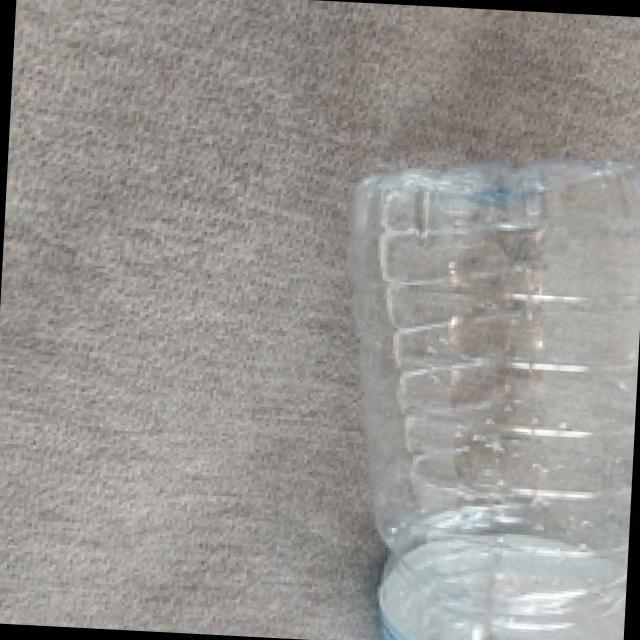good: (332, 145, 640, 640)
